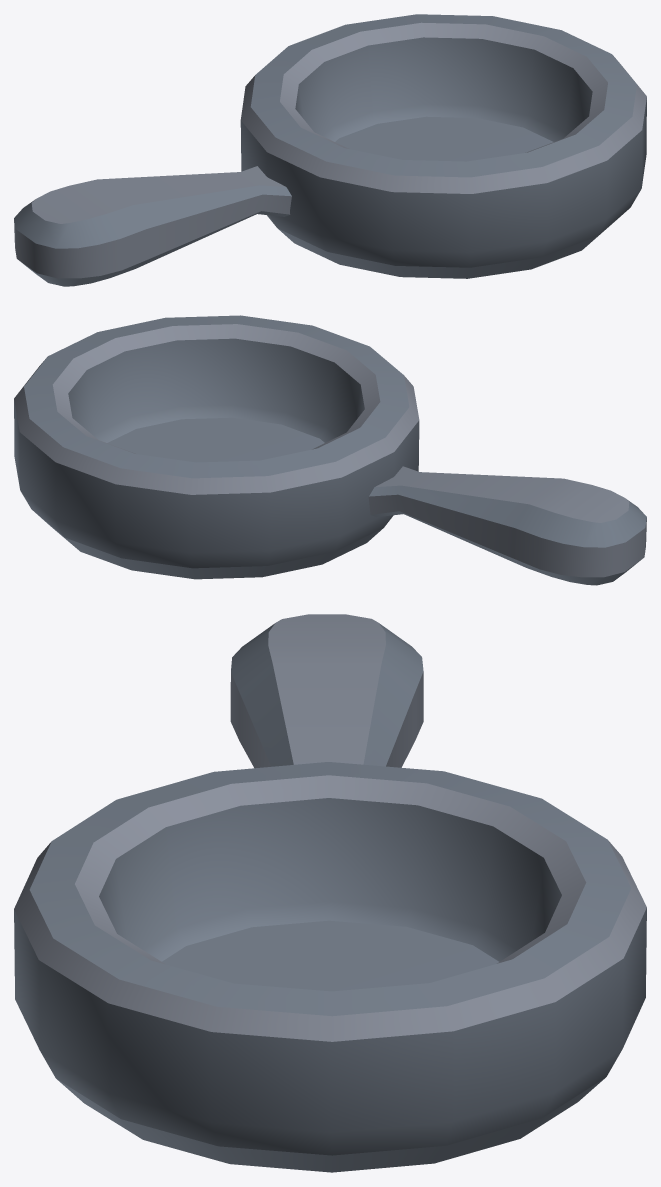
Rendered from Pan_2_C.glb.
The picture shows the model from 3 angles, top to bottom: view 1: azimuth 30°, elevation 25°; view 2: azimuth 150°, elevation 25°; view 3: azimuth 270°, elevation 25°; orthographic projection. The views are drawn at different scales.
Parts seen in each view (by area): view 1: Pan_2_C; view 2: Pan_2_C; view 3: Pan_2_C.
Boxes of the visible parts, x1=… form: Pan_2_C: x1=14, y1=14, x2=646, y2=286; Pan_2_C: x1=14, y1=315, x2=646, y2=585; Pan_2_C: x1=14, y1=614, x2=646, y2=1172.
Size of the model in its own units: 0.8175 by 0.1508 by 0.4865.
1 material, 1 textured.
